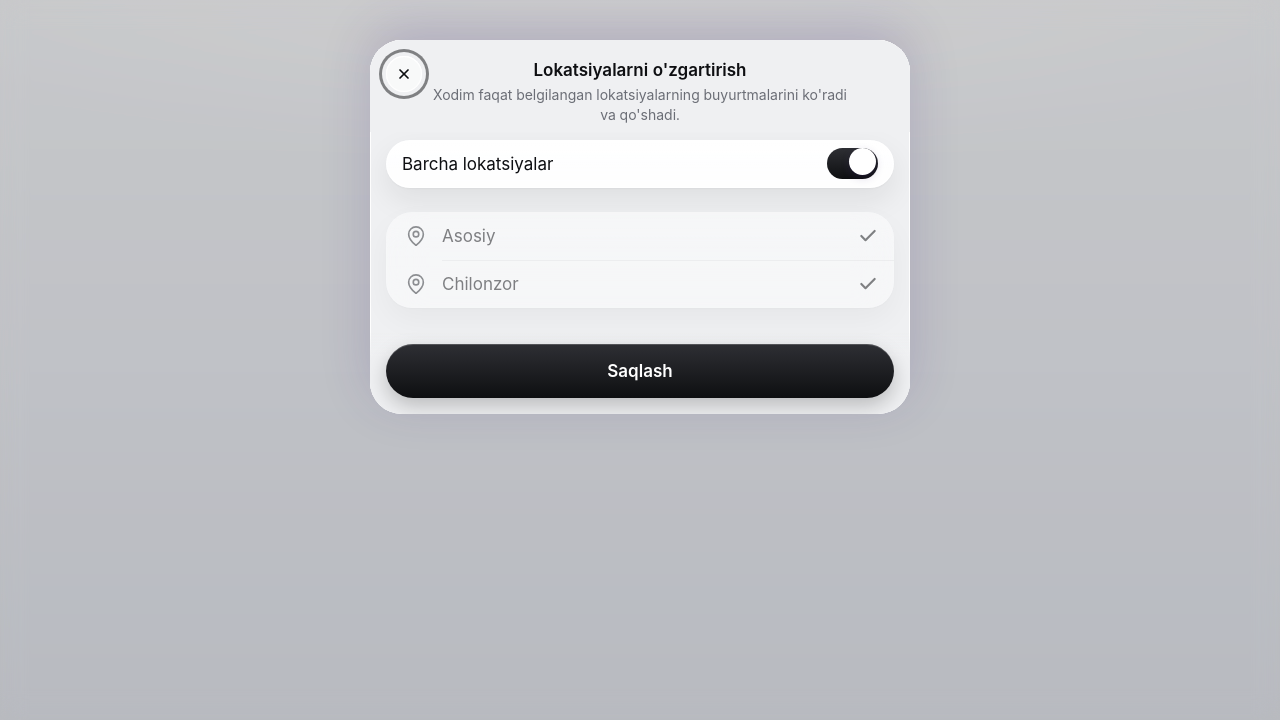
the sheet warns of the orders the employee is assigned in the locations left out: saving is still allowed
Click the switch named "Barcha lokatsiyalar" at (852, 164), box [827,148,878,179]
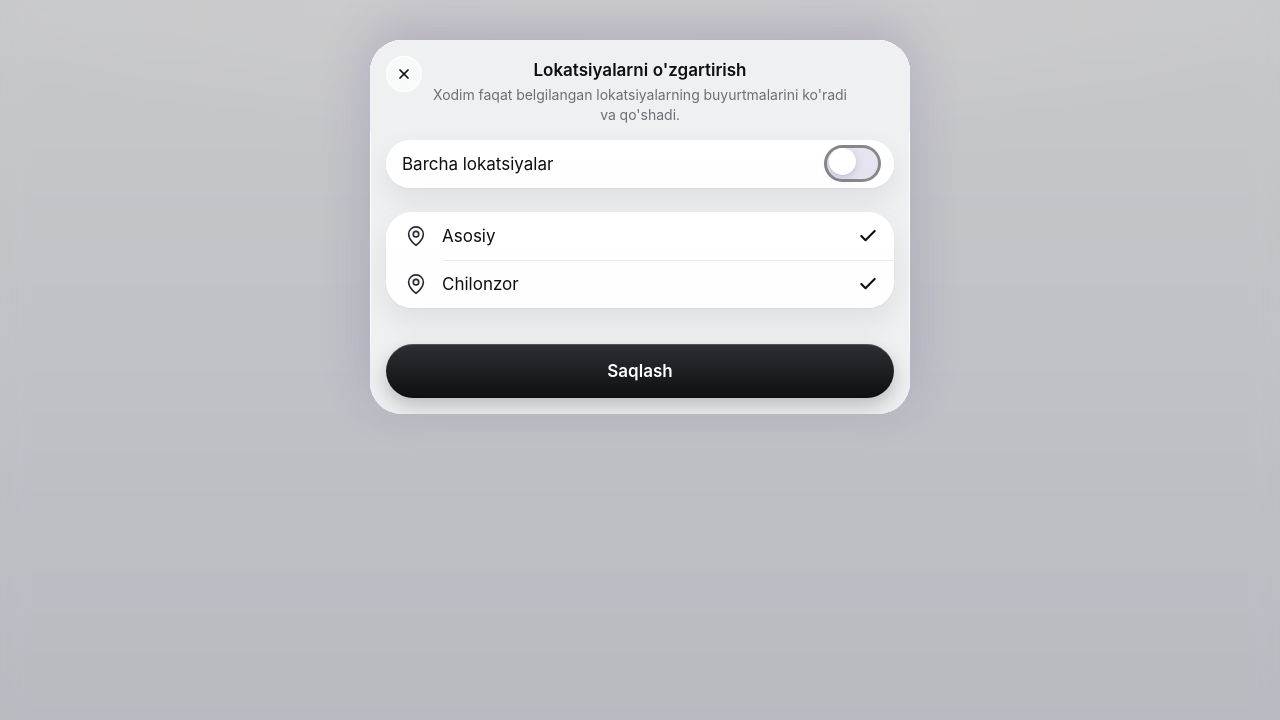
Click the checkbox labelled "Asosiy" at (469, 236), box [386,212,894,260]
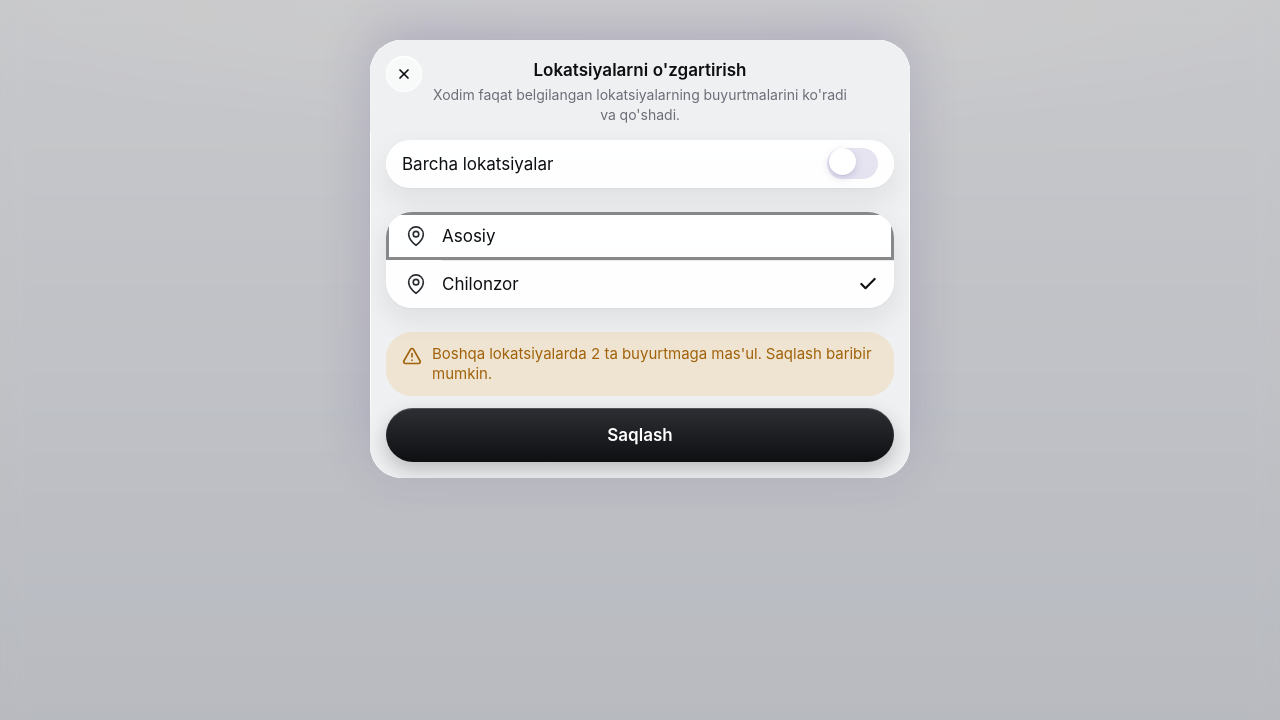
Expected: the text "Boshqa lokatsiyalarda 2 ta buyurtmaga mas'ul. Saqlash baribir mumkin." is shown, [386,332,894,396]
Click the checkbox labelled "Asosiy" at (469, 236), box [386,212,894,260]
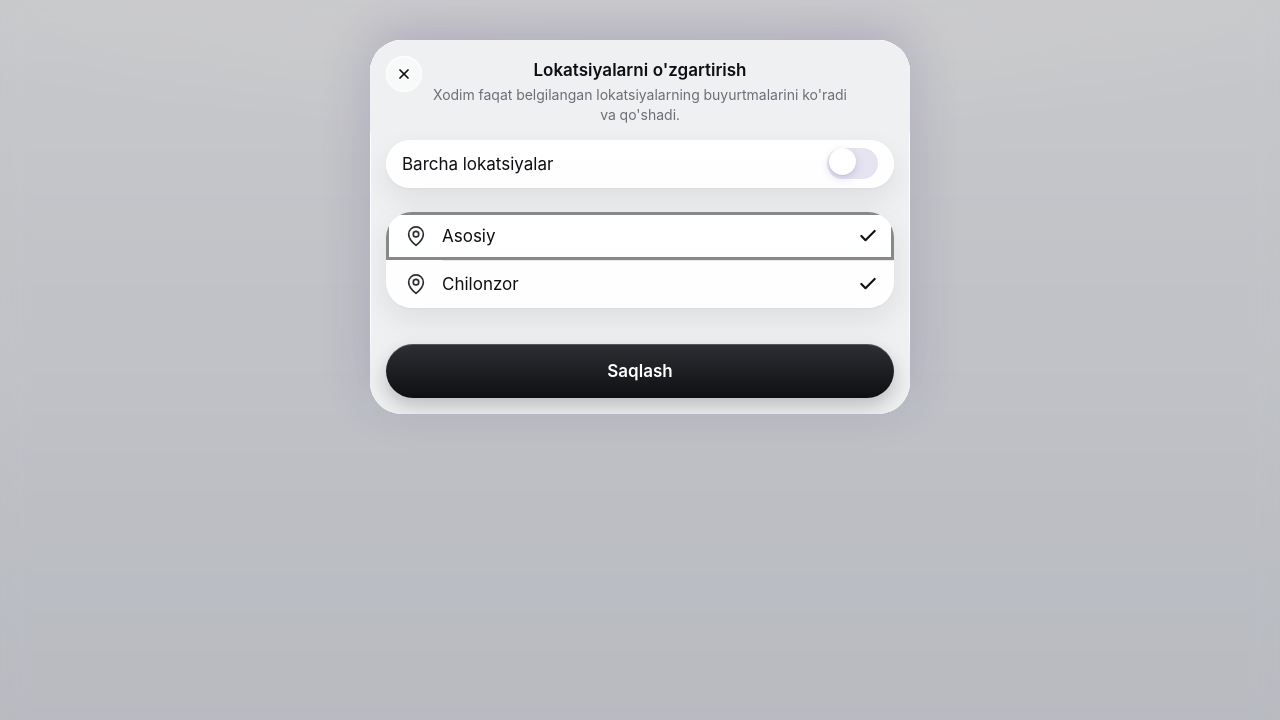
Expected: the text "Boshqa lokatsiyalarda" is gone
